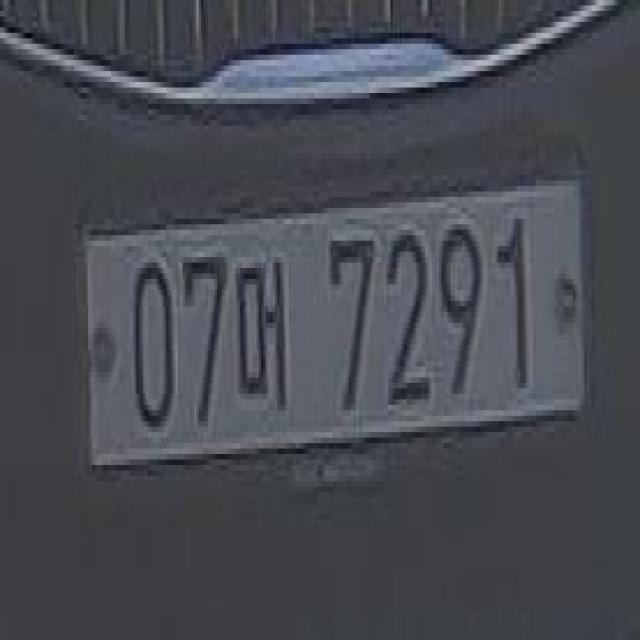illegal_plate: (84, 175, 592, 494)
